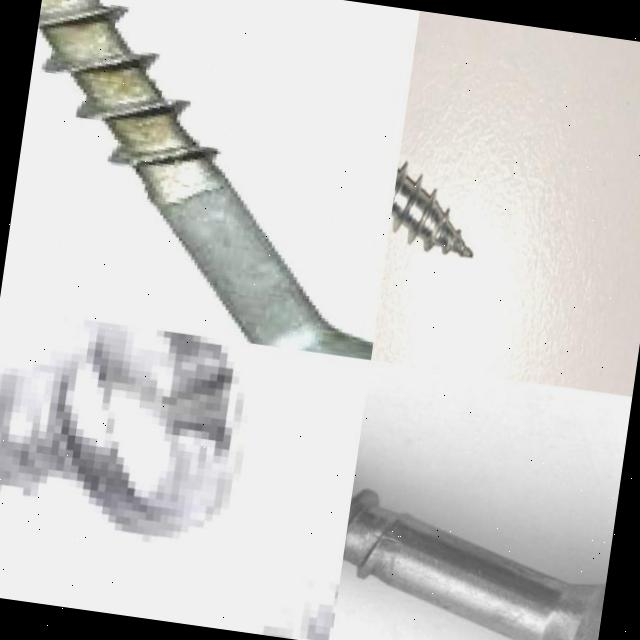Screw: (38, 0, 373, 360), (331, 378, 630, 640), (0, 316, 252, 544), (391, 164, 473, 258)
